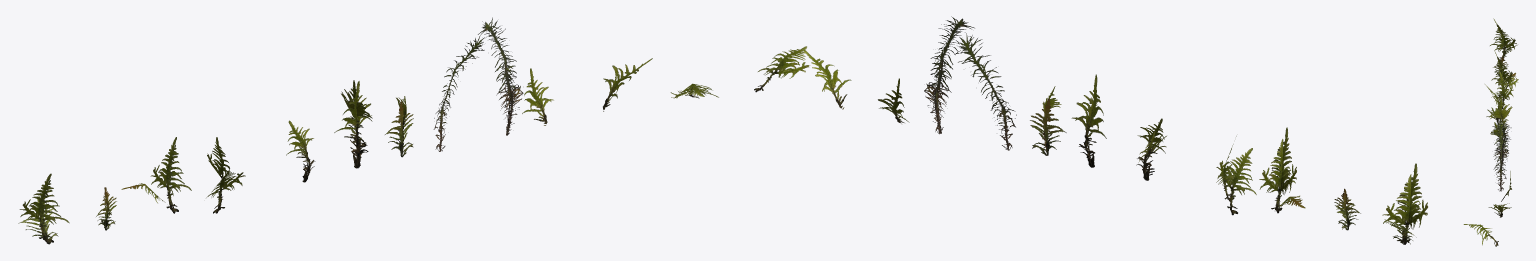
Rendered from moss_01.glb.
3 renders of one model, left to right at view 1: azimuth 30°, elevation 25°; view 2: azimuth 150°, elevation 25°; view 3: azimuth 270°, elevation 25°, orthographic. The views are drawn at different scales.
Parts seen in each view (by area): view 1: moss_01_tall_b_LOD0, moss_01_a_LOD0, moss_01_f_LOD0, moss_01_c_LOD0, moss_01_tall_a_LOD0, moss_01_d_LOD0, moss_01_g_LOD0, moss_01_e_LOD0, moss_01_h_LOD0, moss_01_i_LOD0, moss_01_b_LOD0; view 2: moss_01_a_LOD0, moss_01_tall_b_LOD0, moss_01_c_LOD0, moss_01_tall_a_LOD0, moss_01_d_LOD0, moss_01_f_LOD0, moss_01_g_LOD0, moss_01_j_LOD0, moss_01_e_LOD0, moss_01_i_LOD0, moss_01_b_LOD0, moss_01_h_LOD0; view 3: moss_01_tall_b_LOD0, moss_01_a_LOD0, moss_01_c_LOD0, moss_01_d_LOD0, moss_01_f_LOD0, moss_01_tall_a_LOD0, moss_01_j_LOD0, moss_01_g_LOD0, moss_01_i_LOD0, moss_01_e_LOD0, moss_01_b_LOD0, moss_01_h_LOD0.
Boxes of the visible parts, left/top/right/bottom form: moss_01_tall_b_LOD0: left=478, top=17, right=523, bottom=135; moss_01_a_LOD0: left=18, top=173, right=69, bottom=244; moss_01_f_LOD0: left=334, top=80, right=372, bottom=168; moss_01_c_LOD0: left=121, top=137, right=191, bottom=213; moss_01_tall_a_LOD0: left=433, top=36, right=484, bottom=151; moss_01_d_LOD0: left=206, top=137, right=245, bottom=213; moss_01_g_LOD0: left=385, top=96, right=413, bottom=157; moss_01_e_LOD0: left=286, top=120, right=315, bottom=182; moss_01_h_LOD0: left=522, top=68, right=553, bottom=125; moss_01_i_LOD0: left=603, top=58, right=652, bottom=111; moss_01_b_LOD0: left=96, top=187, right=116, bottom=230; moss_01_a_LOD0: left=1382, top=163, right=1427, bottom=244; moss_01_tall_b_LOD0: left=924, top=16, right=974, bottom=134; moss_01_c_LOD0: left=1259, top=127, right=1305, bottom=213; moss_01_tall_a_LOD0: left=954, top=33, right=1016, bottom=150; moss_01_d_LOD0: left=1216, top=136, right=1256, bottom=215; moss_01_f_LOD0: left=1071, top=74, right=1106, bottom=167; moss_01_g_LOD0: left=1030, top=86, right=1066, bottom=155; moss_01_j_LOD0: left=754, top=46, right=809, bottom=92; moss_01_e_LOD0: left=1136, top=118, right=1166, bottom=180; moss_01_i_LOD0: left=802, top=48, right=851, bottom=109; moss_01_b_LOD0: left=1334, top=188, right=1360, bottom=230; moss_01_h_LOD0: left=878, top=78, right=909, bottom=123; moss_01_tall_b_LOD0: left=1491, top=118, right=1510, bottom=191; moss_01_a_LOD0: left=1490, top=18, right=1517, bottom=60; moss_01_c_LOD0: left=1491, top=51, right=1518, bottom=96; moss_01_d_LOD0: left=1485, top=70, right=1513, bottom=109; moss_01_f_LOD0: left=1489, top=97, right=1512, bottom=140; moss_01_tall_a_LOD0: left=1494, top=125, right=1511, bottom=168; moss_01_j_LOD0: left=1463, top=224, right=1498, bottom=246; moss_01_g_LOD0: left=1490, top=122, right=1506, bottom=159; moss_01_i_LOD0: left=1488, top=203, right=1511, bottom=217; moss_01_e_LOD0: left=1486, top=93, right=1508, bottom=129; moss_01_b_LOD0: left=1493, top=55, right=1508, bottom=75; moss_01_h_LOD0: left=1501, top=171, right=1511, bottom=201.
Size of the model in its own units: 2 by 0.3751 by 0.2734.
Materials: 1 (1 with a texture image).
